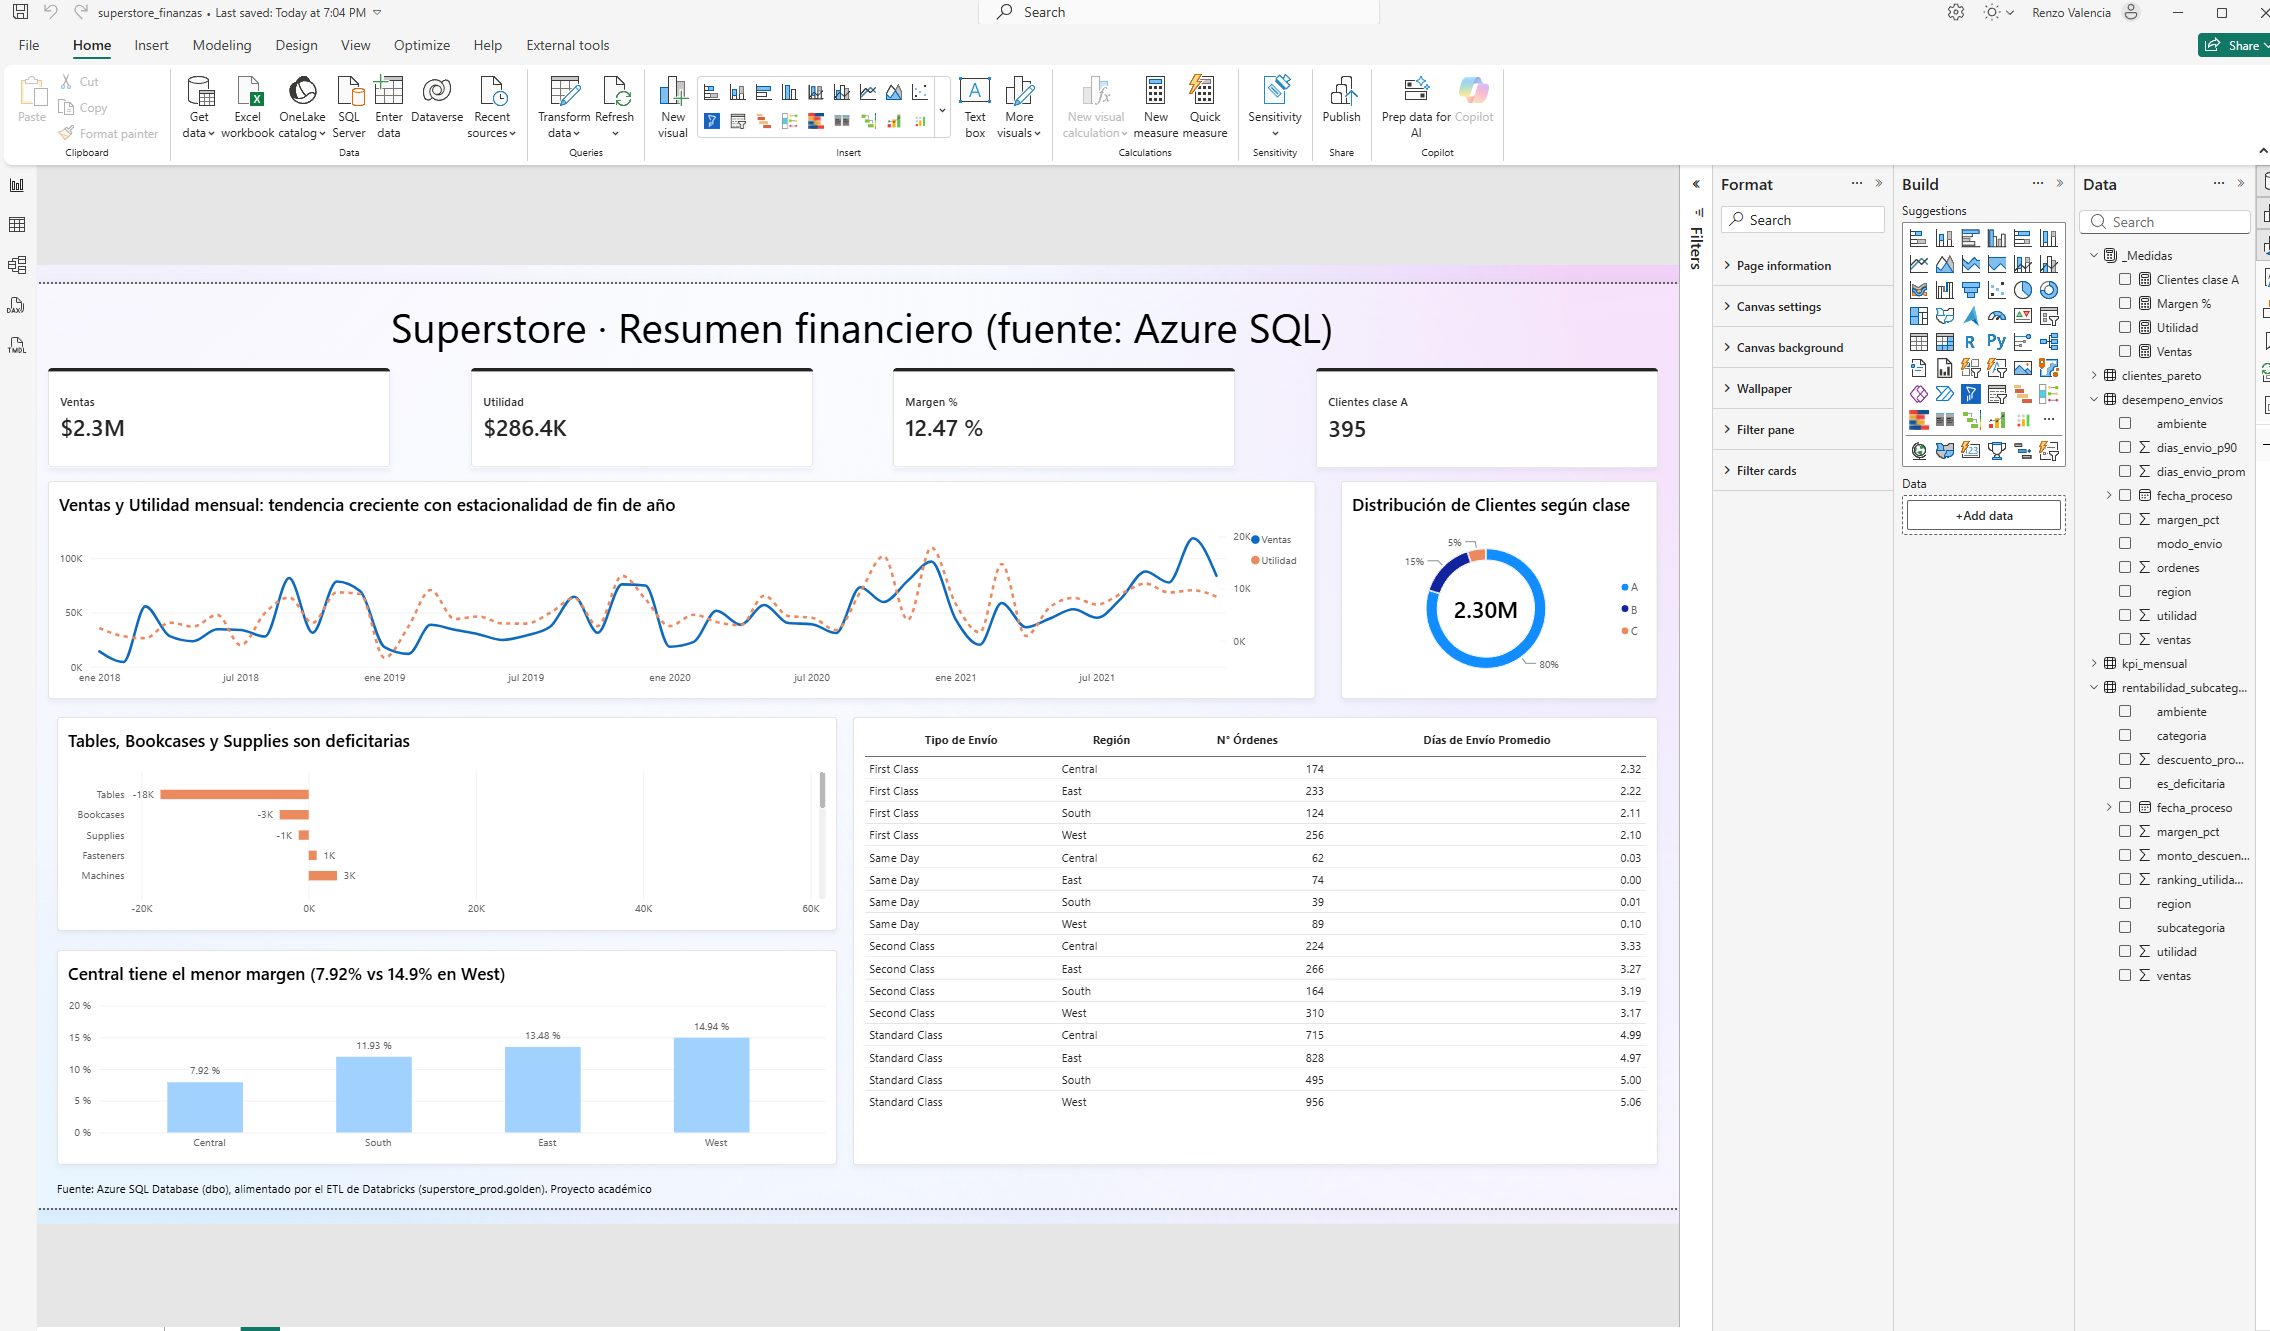

The dashboard page shown, as its layout file describes it:
{"tool":"powerbi","page":{"name":"Page 1","canvas":[1920,1080],"ordinal":0},"visuals":[{"type":"textbox","box":[9.4,17.5,1910.6,79.5],"z":0},{"type":"cardVisual","fields":{"Data":["_Medidas.Ventas"]},"box":[13,98,400.1,116.9],"z":1,"group":"g1"},{"type":"cardVisual","fields":{"Data":["_Medidas.Utilidad"]},"box":[507.2,98,400.1,116.9],"z":2,"group":"g1"},{"type":"cardVisual","fields":{"Data":["_Medidas.Margen %"]},"box":[1001.3,98,400.1,116.9],"z":3,"group":"g1"},{"type":"cardVisual","fields":{"Data":["_Medidas.Clientes clase A"]},"box":[1495.5,97.9,400.1,117.2],"z":4,"group":"g1"},{"type":"group","id":"g1","title":"Group 1","box":[13,97.9,1882.6,117.2],"z":5},{"type":"lineChart","title":"Ventas y Utilidad mensual: tendencia creciente con estacionalidad de fin de año","fields":{"Category":["kpi_mensual.anio_mes"],"Y":["Sum(kpi_mensual.ventas)"],"Y2":["Sum(kpi_mensual.utilidad)"]},"box":[13,230.2,1482.3,255.3],"z":6},{"type":"clusteredBarChart","title":"Tables, Bookcases y Supplies son deficitarias","fields":{"Category":["rentabilidad_subcategoria.subcategoria"],"Y":["Sum(rentabilidad_subcategoria.utilidad)"]},"box":[22.8,506.5,912.1,250],"z":7},{"type":"clusteredColumnChart","title":"Central tiene el menor margen (7.92% vs 14.9% en West)","fields":{"Category":["kpi_mensual.region"],"Y":["_Medidas.Margen %"]},"box":[23.4,778.8,912.1,251.4],"z":8},{"type":"donutChart","title":"Distribución de Clientes según clase","fields":{"Category":["clientes_pareto.clase_abc"],"Y":["Sum(clientes_pareto.ventas)"]},"box":[1525.3,230.2,369.9,255.3],"z":9},{"type":"tableEx","fields":{"Values":["desempeno_envios.modo_envio","desempeno_envios.region","Sum(desempeno_envios.ordenes)","Sum(desempeno_envios.dias_envio_prom)"]},"box":[954.2,506.3,941.3,523.8],"z":10},{"type":"textbox","box":[23.2,1049,921.6,30.5],"z":11}]}

Visuals, with their boxes on the page's 1920x1080 design canvas (x1, y1, x2, y2). These are canvas units, not pixel positions in the 2270x1331 screenshot, which may show the page scaled, cropped or inside an application window:
textbox: detection(9, 18, 1920, 97)
cardVisual - _Medidas.Ventas: detection(13, 98, 413, 215)
cardVisual - _Medidas.Utilidad: detection(507, 98, 907, 215)
cardVisual - _Medidas.Margen %: detection(1001, 98, 1401, 215)
cardVisual - _Medidas.Clientes clase A: detection(1496, 98, 1896, 215)
"Group 1" group: detection(13, 98, 1896, 215)
"Ventas y Utilidad mensual: tendencia creciente con estacionalidad de fin de año" lineChart: detection(13, 230, 1495, 486)
"Tables, Bookcases y Supplies son deficitarias" clusteredBarChart: detection(23, 506, 935, 756)
"Central tiene el menor margen (7.92% vs 14.9% en West)" clusteredColumnChart: detection(23, 779, 936, 1030)
"Distribución de Clientes según clase" donutChart: detection(1525, 230, 1895, 486)
tableEx - desempeno_envios.modo_envio x desempeno_envios.region: detection(954, 506, 1896, 1030)
textbox: detection(23, 1049, 945, 1080)
